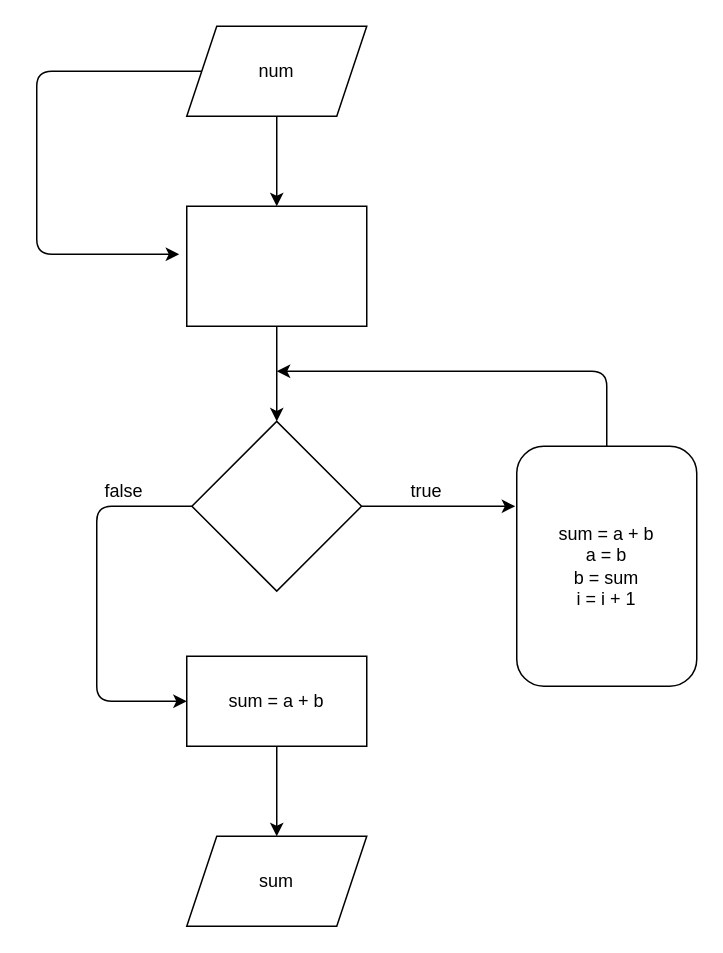
Some shapes in this 723 by 953 pixel diagram are drawn without their labels. Here are the shapes that lost their labels. From the top down, the centre of each, then its label:
(276,265): a = 0 b = 1 sum = 0 i = 0
(276,505): i <= sum
